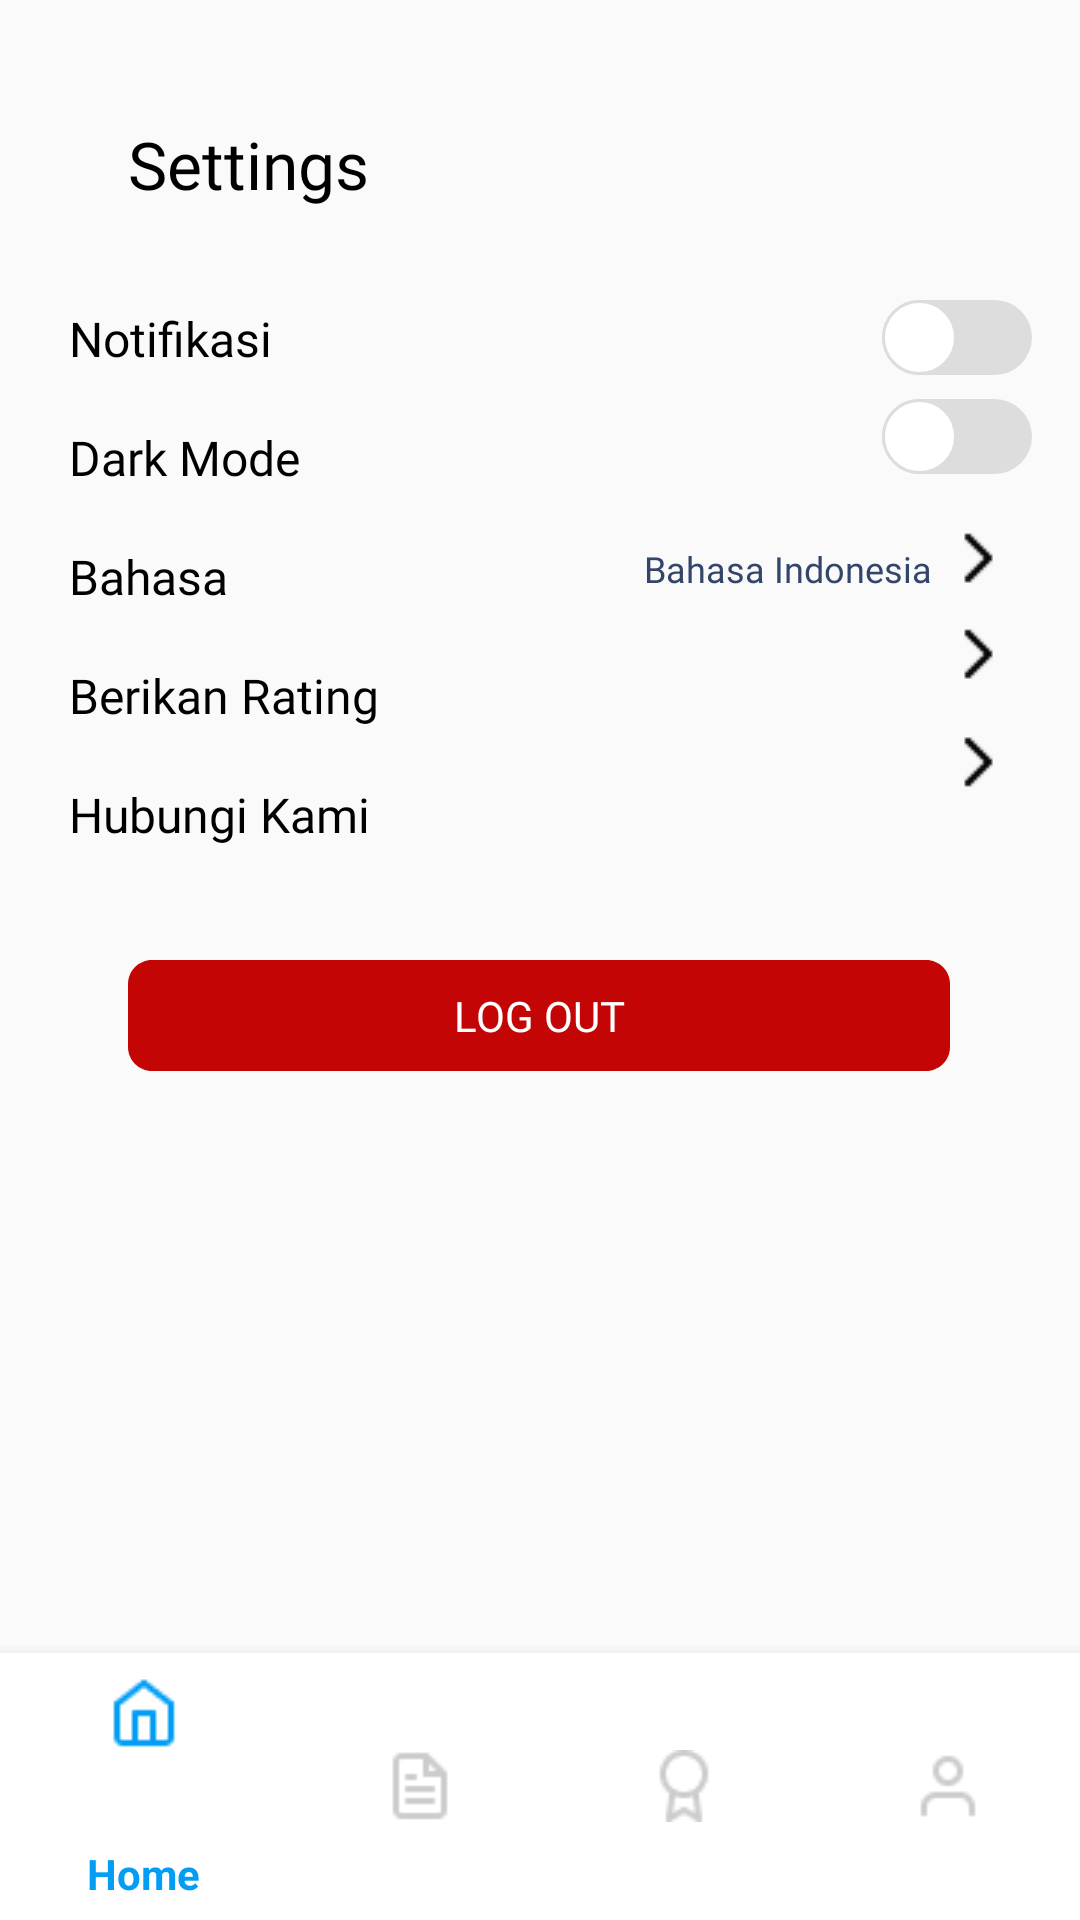

Where icons sit on this 1080*1920 app screen, as {"x1": x1, "y1": y1, "x2": x2, "y2": y2}:
arrow right: {"x1": 964, "y1": 533, "x2": 993, "y2": 583}, {"x1": 964, "y1": 629, "x2": 993, "y2": 679}, {"x1": 964, "y1": 737, "x2": 993, "y2": 787}
